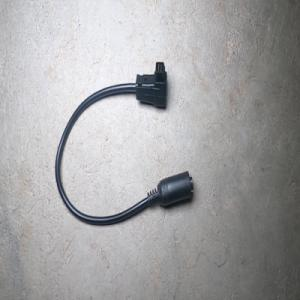Wire: (54, 61, 193, 226)
